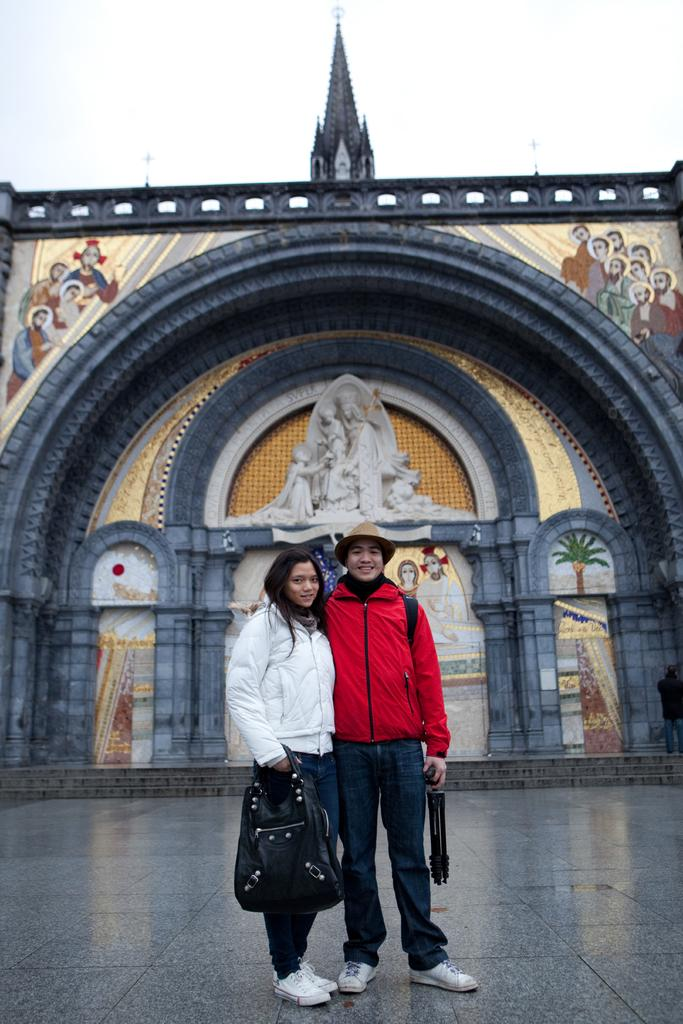Luggage-and-bags: (239, 758, 349, 950), (426, 776, 452, 892)
